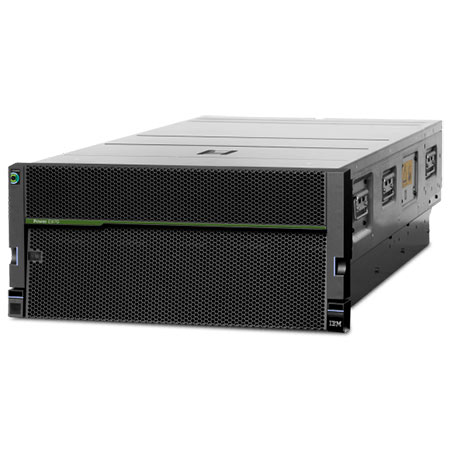ibm-server: (5, 111, 445, 337)
